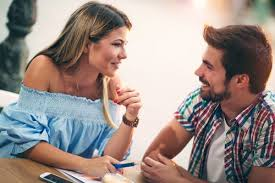person: (160, 20, 268, 151), (44, 4, 134, 144)
